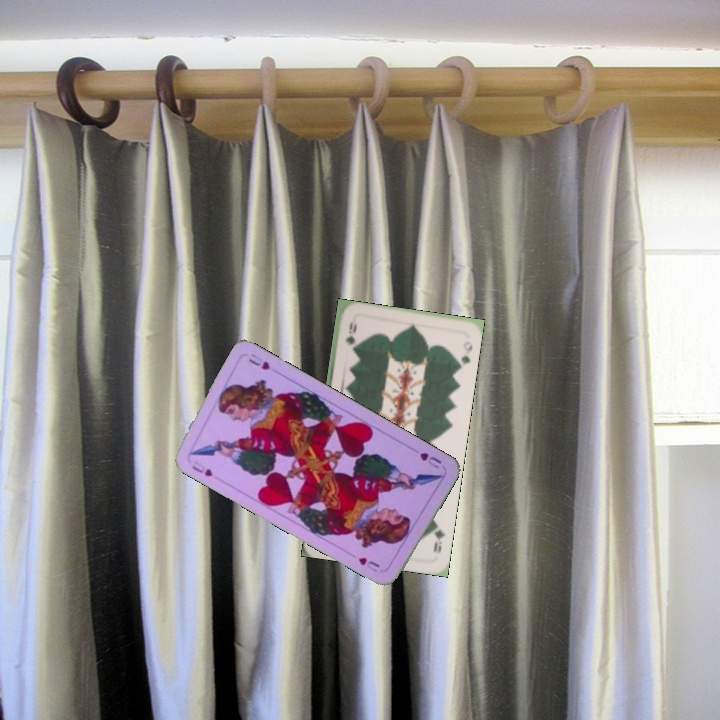G9: (429, 518, 448, 556), (342, 318, 357, 347)
HU: (416, 448, 444, 471), (188, 457, 215, 479)
